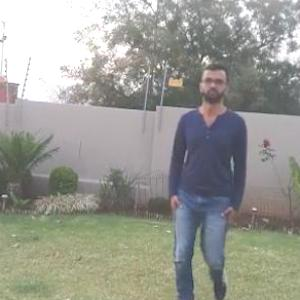follow: (168, 71, 244, 299)
